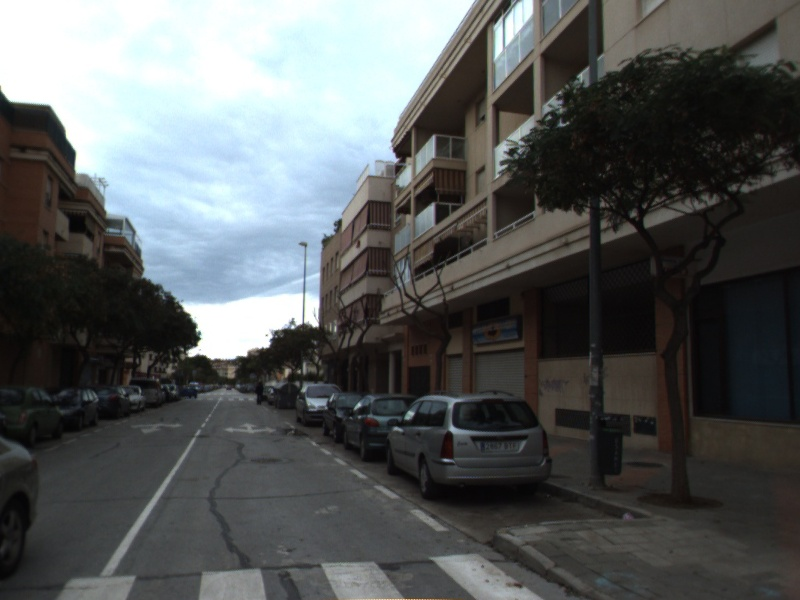STRAIGHT_LEFT_RIGHT: (221, 421, 279, 436)
